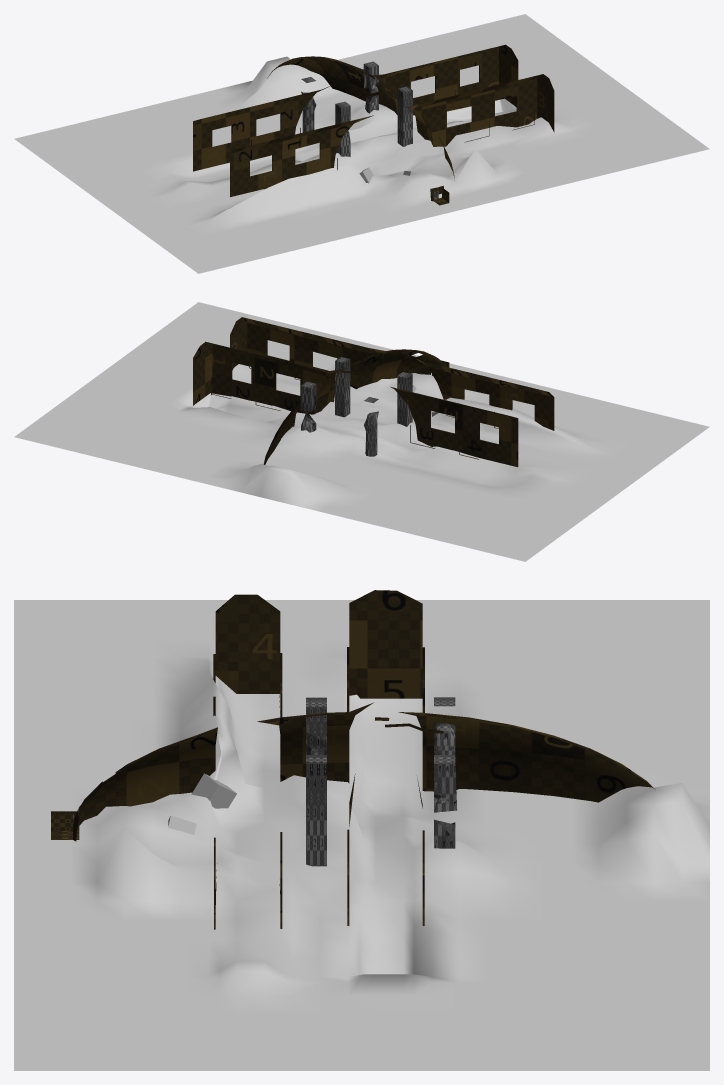
Rendered from fourth_Temple.fbx.
The picture shows the model from 3 angles, top to bottom: view 1: azimuth 30°, elevation 25°; view 2: azimuth 150°, elevation 25°; view 3: azimuth 270°, elevation 25°; orthographic projection. The views are drawn at different scales.
Parts seen in each view (by area): view 1: OceanFloor, Dome, Pillar_1, Pillar_2, Pillar_4, Pillar_3; view 2: OceanFloor, Dome, Pillar_1, Pillar_2, Pillar_4, Pillar_3; view 3: OceanFloor, Dome, Pillar_1, Pillar_2, Pillar_4, Stone, Pillar_3, Entryway.
Part boxes in pixels (bbox=[...]): OceanFloor: bbox=[14, 14, 709, 273]; Dome: bbox=[193, 44, 554, 201]; Pillar_1: bbox=[397, 86, 412, 146]; Pillar_2: bbox=[363, 61, 378, 113]; Pillar_4: bbox=[335, 101, 350, 156]; Pillar_3: bbox=[301, 77, 316, 132]; OceanFloor: bbox=[14, 302, 709, 561]; Dome: bbox=[193, 317, 554, 467]; Pillar_1: bbox=[335, 357, 350, 417]; Pillar_2: bbox=[300, 381, 316, 432]; Pillar_4: bbox=[397, 372, 412, 426]; Pillar_3: bbox=[364, 397, 378, 456]; OceanFloor: bbox=[14, 600, 709, 1070]; Dome: bbox=[73, 590, 655, 929]; Pillar_1: bbox=[306, 755, 326, 866]; Pillar_2: bbox=[434, 755, 457, 848]; Pillar_4: bbox=[306, 697, 326, 754]; Stone: bbox=[191, 773, 236, 808]; Pillar_3: bbox=[434, 697, 455, 754]; Entryway: bbox=[51, 811, 79, 839].
Bounding box in the file's own units: 118 × 17.9 × 73.61.
